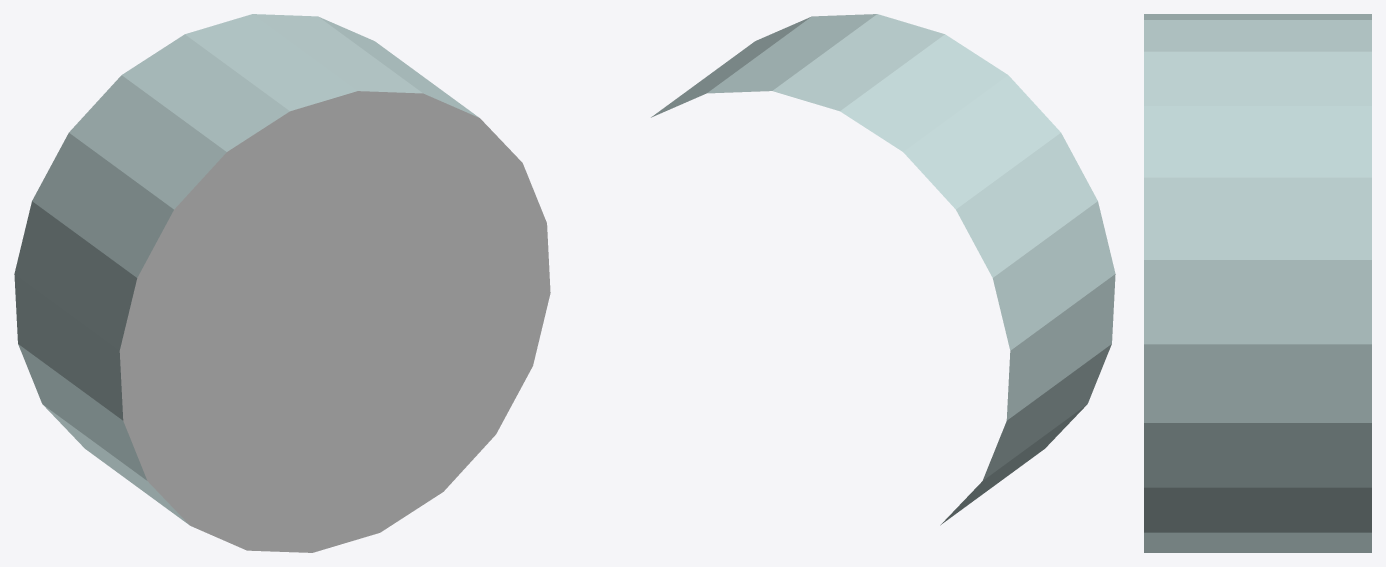
The picture shows the model from 3 angles, left to right: view 1: azimuth 30°, elevation 25°; view 2: azimuth 150°, elevation 25°; view 3: azimuth 270°, elevation 25°; orthographic projection. The views are drawn at different scales.
Parts seen in each view (by area): view 1: 0_2_2_3_3_3_2_1_1; view 2: 0_2_2_3_3_3_2_1_1; view 3: 0_2_2_3_3_3_2_1_1.
Part boxes in pixels (x1=…): 0_2_2_3_3_3_2_1_1: x1=14, y1=14, x2=550, y2=552; 0_2_2_3_3_3_2_1_1: x1=651, y1=14, x2=1115, y2=525; 0_2_2_3_3_3_2_1_1: x1=1144, y1=14, x2=1371, y2=552.
Size of the model in its own units: 7.09 by 7.09 by 3.
